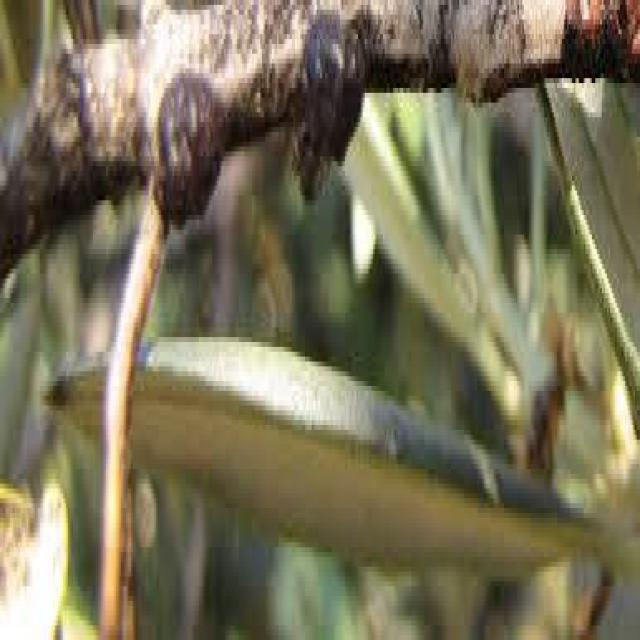BlackScale: (294, 9, 364, 200), (156, 68, 227, 235)
